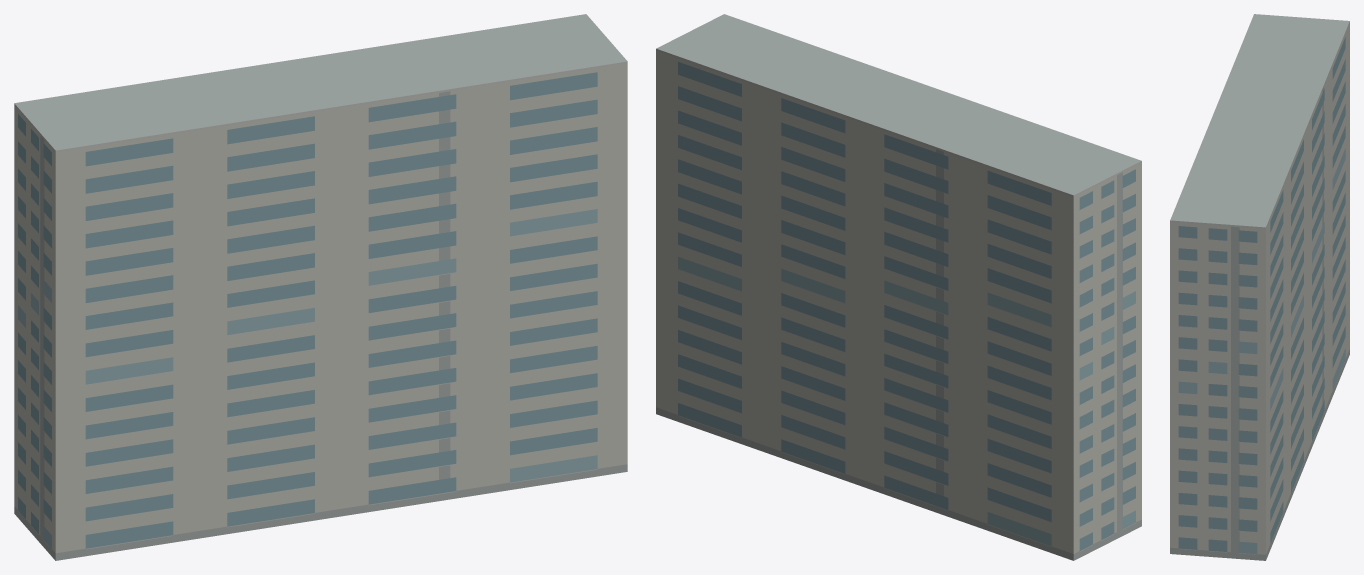
Rendered from residential-a01b10d4-f4ef-4c0f-a487-7130469d270e.glb.
3 views of the same model, side by side, from view 1: azimuth 30°, elevation 25°; view 2: azimuth 150°, elevation 25°; view 3: azimuth 270°, elevation 25° (orthographic). The views are drawn at different scales.
Parts seen in each view (by area): view 1: residential-a01b10d4-f4ef-4c0f-a487-7130469d270e.tmp; view 2: residential-a01b10d4-f4ef-4c0f-a487-7130469d270e.tmp; view 3: residential-a01b10d4-f4ef-4c0f-a487-7130469d270e.tmp.
Part boxes in pixels (x1=…): residential-a01b10d4-f4ef-4c0f-a487-7130469d270e.tmp: x1=14, y1=14, x2=627, y2=560; residential-a01b10d4-f4ef-4c0f-a487-7130469d270e.tmp: x1=656, y1=14, x2=1141, y2=560; residential-a01b10d4-f4ef-4c0f-a487-7130469d270e.tmp: x1=1170, y1=14, x2=1349, y2=560.
Size of the model in its own units: 62.78 by 45.75 by 22.36.
